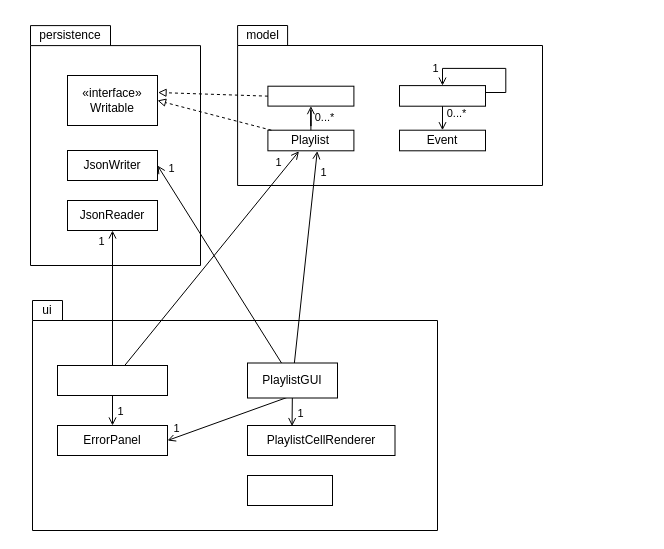
This 664x549 diagram has some shape labels left out. The centre of each missing label's shape, as x and y in pixels:
EventLog: the point at 442,95
Main: the point at 289,490
PlaylistAppGUI: the point at 112,380
Song: the point at 310,95
